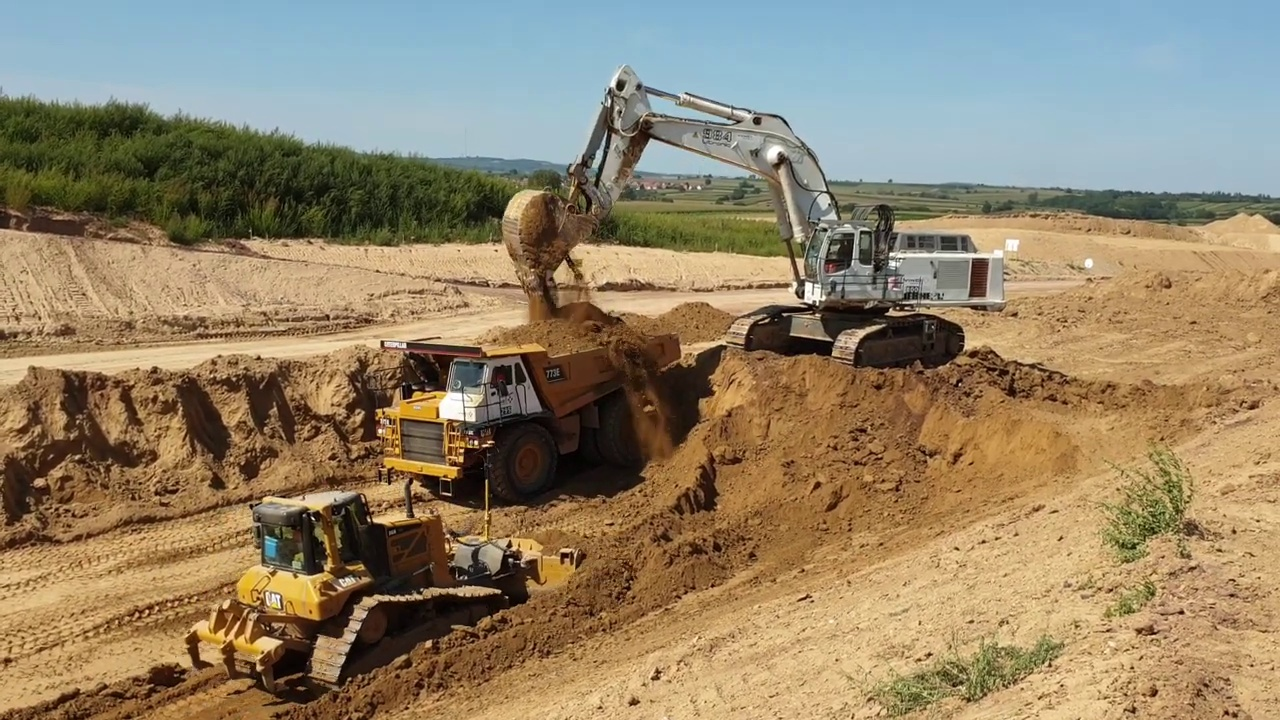bulldozer: (180, 450, 585, 705)
excavator: (492, 57, 1014, 374)
truck: (368, 330, 688, 512)
